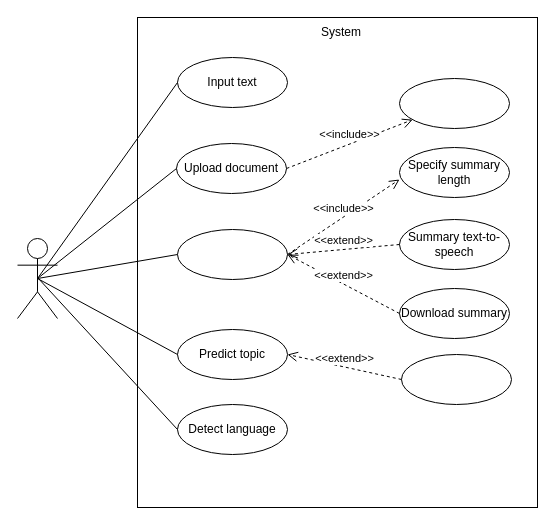
Some shapes in this 555 by 525 pixel diagram are drawn without their labels. The shapes that lost their labels are listed below. From the top down, each one's centre as x and y in pixels, then its label:
At pixel 454 103: "Select document".
At pixel 232 254: "Summarize text".
At pixel 37 278: "Actor".
At pixel 456 379: "Copy topic".
